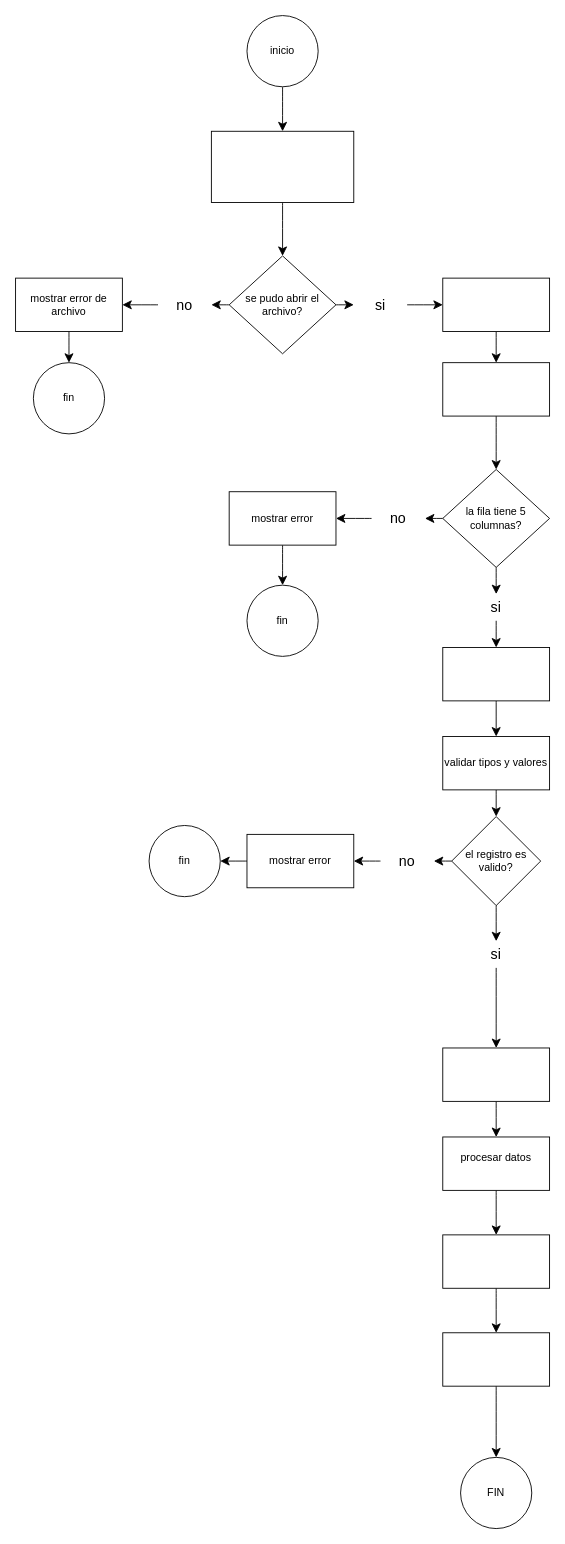
Some shapes in this 565 by 1544 pixel diagram are drawn without their labels. Here are the shapes that lost their labels. From the top down, the centre of each, then its label:
(282,166): leer archivo CSV
(496,304): recorrer filas del archivo
(496,389): separar fila en id, fecha, app, cant_uso, tiempo_uso
(496,674): transformar fila en registro (diccionario)
(496,1074): guardar registro valido
(496,1261): calcular metricas
(496,1359): mostrar resultados
